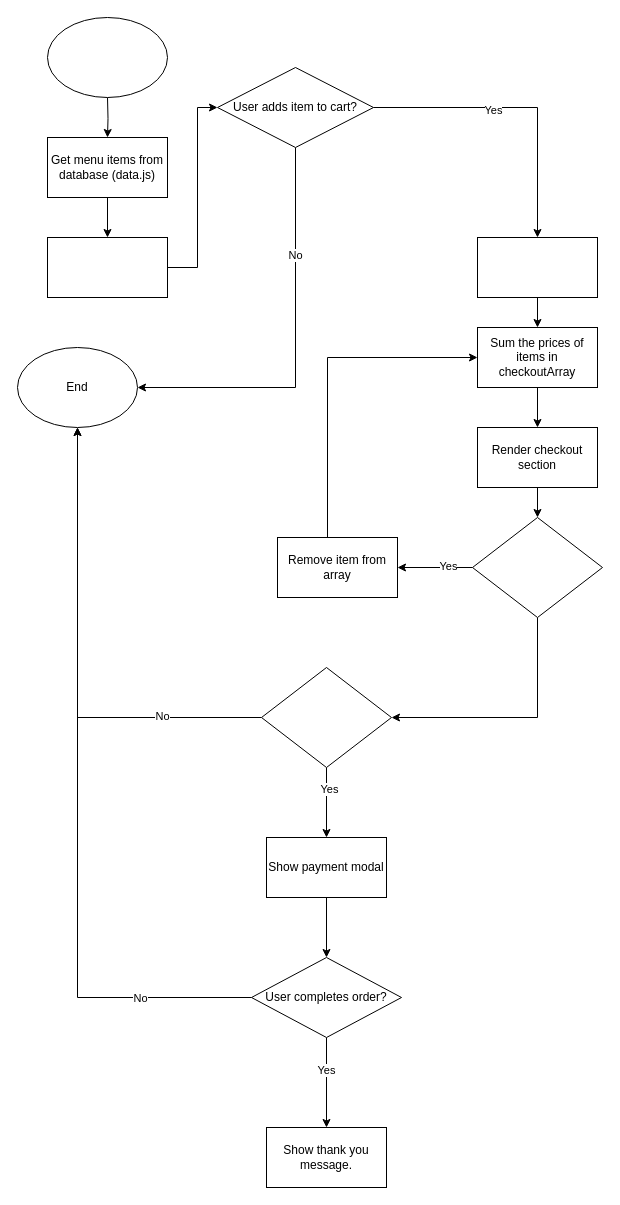
This 620x1205 diagram has some shape labels left out. The shapes that lost their labels are listed below. From the top down, each one's centre as x and y in pixels, then its label:
the point at 107,57: Start
the point at 107,267: Render items fetched previously
the point at 537,267: Add items to checkoutArray
the point at 537,567: User removes item from the cart?
the point at 326,717: User clicks on 'Complete Order'?
